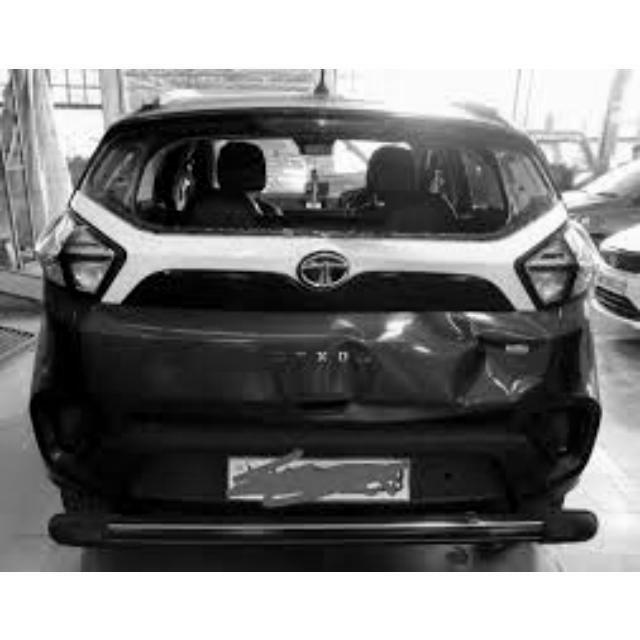Taillight-Damage: (305, 310, 581, 420)
